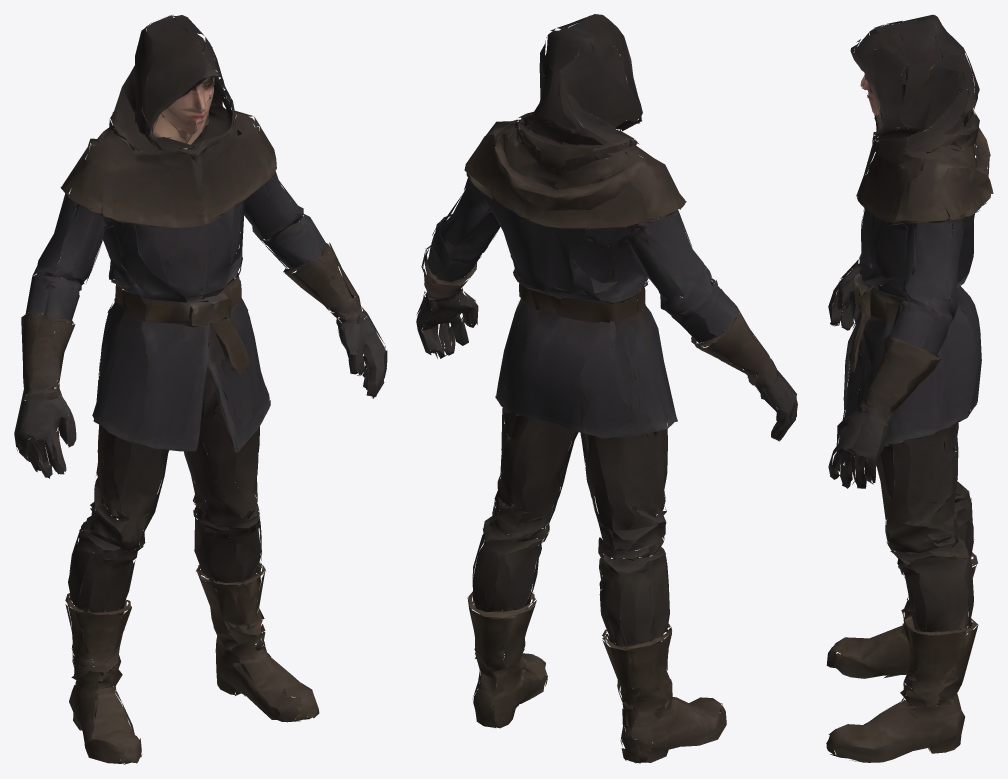
The model's file is cha_torchbearer_clean_v2-unrigged.glb.
3 views of the same model, side by side, from view 1: azimuth 30°, elevation 25°; view 2: azimuth 150°, elevation 25°; view 3: azimuth 270°, elevation 25° (orthographic). The views are drawn at different scales.
Parts seen in each view (by area): view 1: geometry_0; view 2: geometry_0; view 3: geometry_0.
Boxes of the visible parts, bbox=[...] form: geometry_0: bbox=[14, 15, 387, 764]; geometry_0: bbox=[416, 14, 797, 763]; geometry_0: bbox=[826, 14, 993, 762].
Size of the model in its own units: 0.9135 by 1.65 by 0.361.
Materials: 1 (1 with a texture image).
